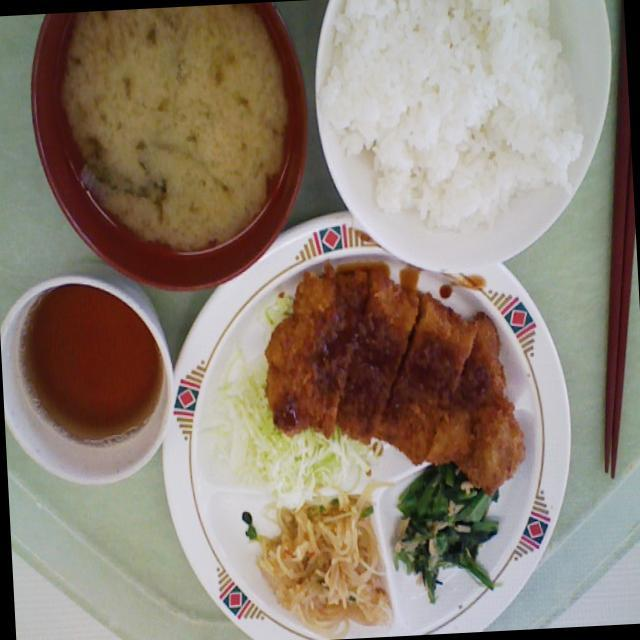Rice: (331, 0, 588, 258)
